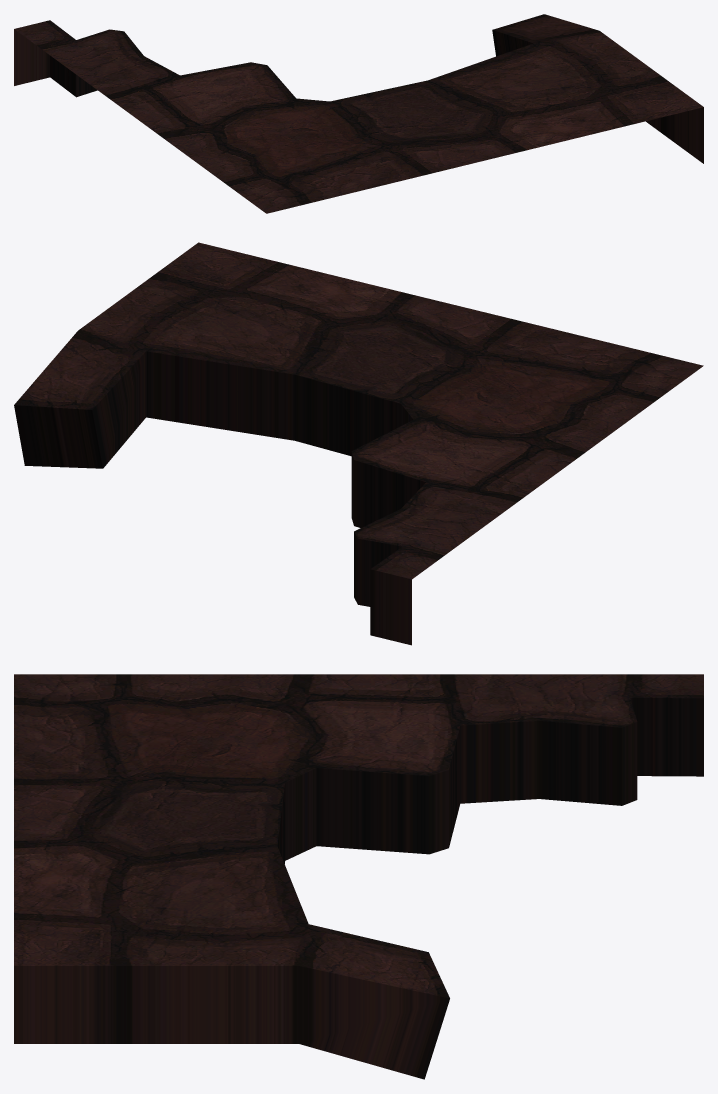
Rendered from lava_floor_brokendiagonal_03.fbx.
3 views of the same model, one above another, from view 1: azimuth 30°, elevation 25°; view 2: azimuth 150°, elevation 25°; view 3: azimuth 270°, elevation 25° (orthographic). The views are drawn at different scales.
Parts seen in each view (by area): view 1: obj0.160; view 2: obj0.160; view 3: obj0.160.
Boxes of the visible parts, <box> form: obj0.160: <box>14,14,703,213</box>; obj0.160: <box>14,242,703,645</box>; obj0.160: <box>14,674,703,1079</box>.
Size of the model in its own units: 4 by 0.7279 by 4.
